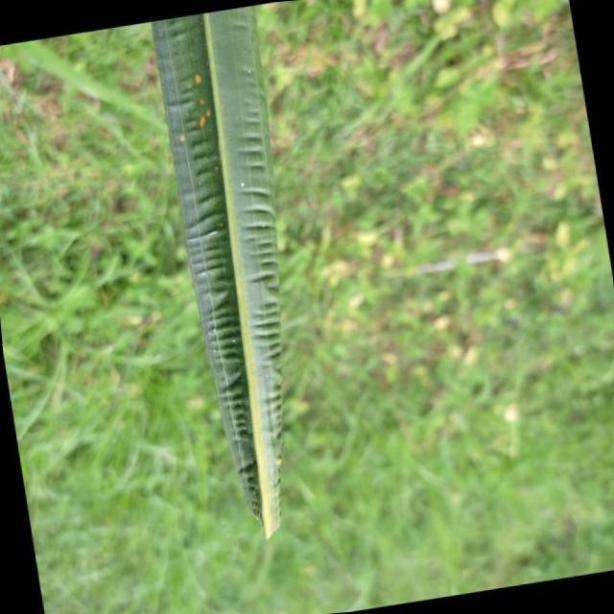Boron: (147, 0, 288, 545)
